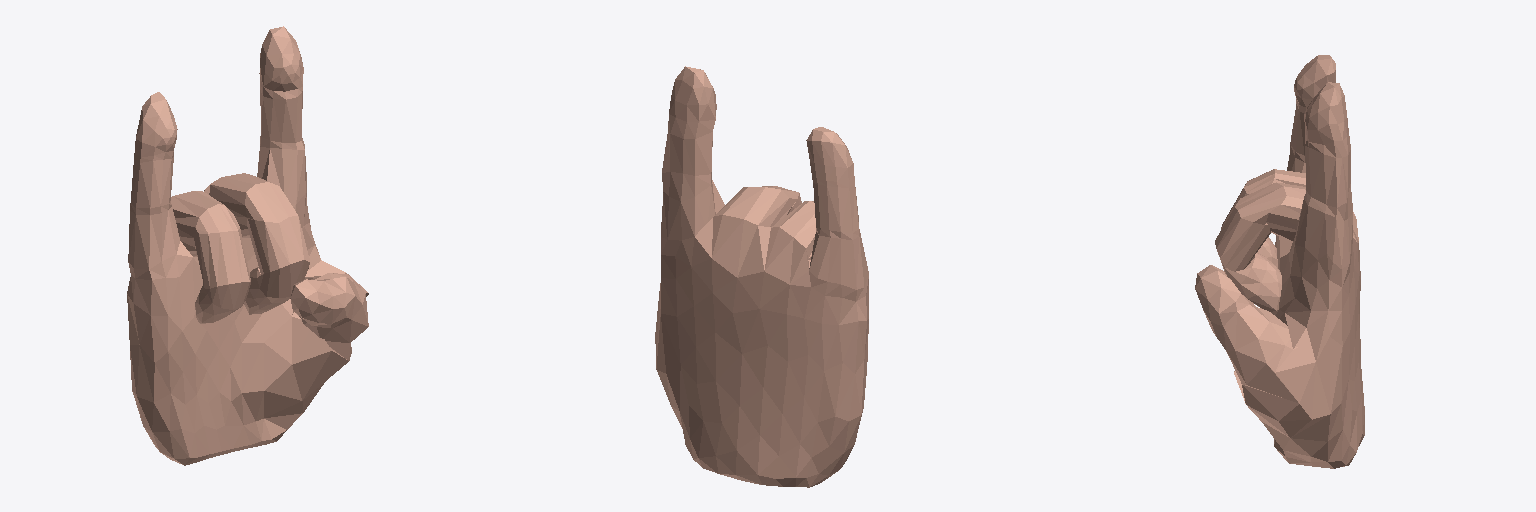
The model's file is MAO_BANHEIRO.obj.
3 renders of one model, left to right at view 1: azimuth 30°, elevation 25°; view 2: azimuth 150°, elevation 25°; view 3: azimuth 270°, elevation 25°, orthographic.
Visible parts, largest first — view 1: mao_dir:mao_dir; view 2: mao_dir:mao_dir; view 3: mao_dir:mao_dir.
Boxes of the visible parts, <box> form: mao_dir:mao_dir: <box>127,26,368,465</box>; mao_dir:mao_dir: <box>655,66,868,487</box>; mao_dir:mao_dir: <box>1195,55,1364,468</box>.
Size of the model in its own units: 134 by 227 by 89.22.